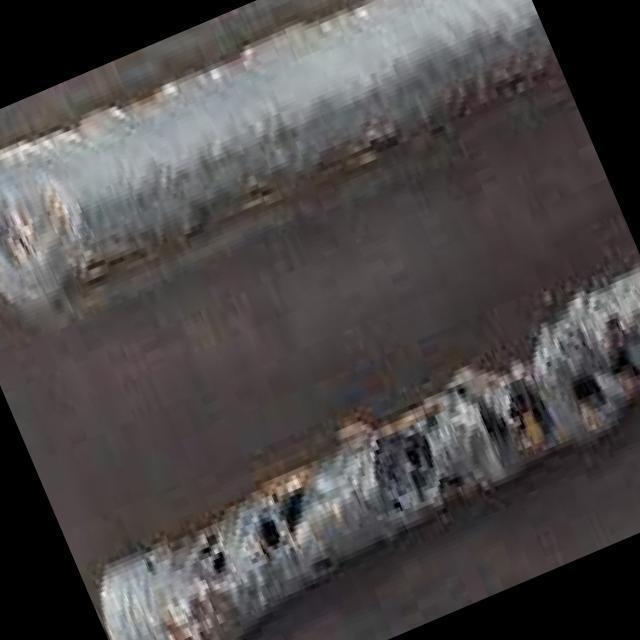defect: (476, 372, 547, 447), (249, 482, 313, 562), (599, 305, 640, 384), (404, 425, 436, 521), (572, 361, 607, 414), (195, 527, 228, 581), (380, 454, 405, 521), (450, 375, 471, 400), (138, 548, 156, 575)
